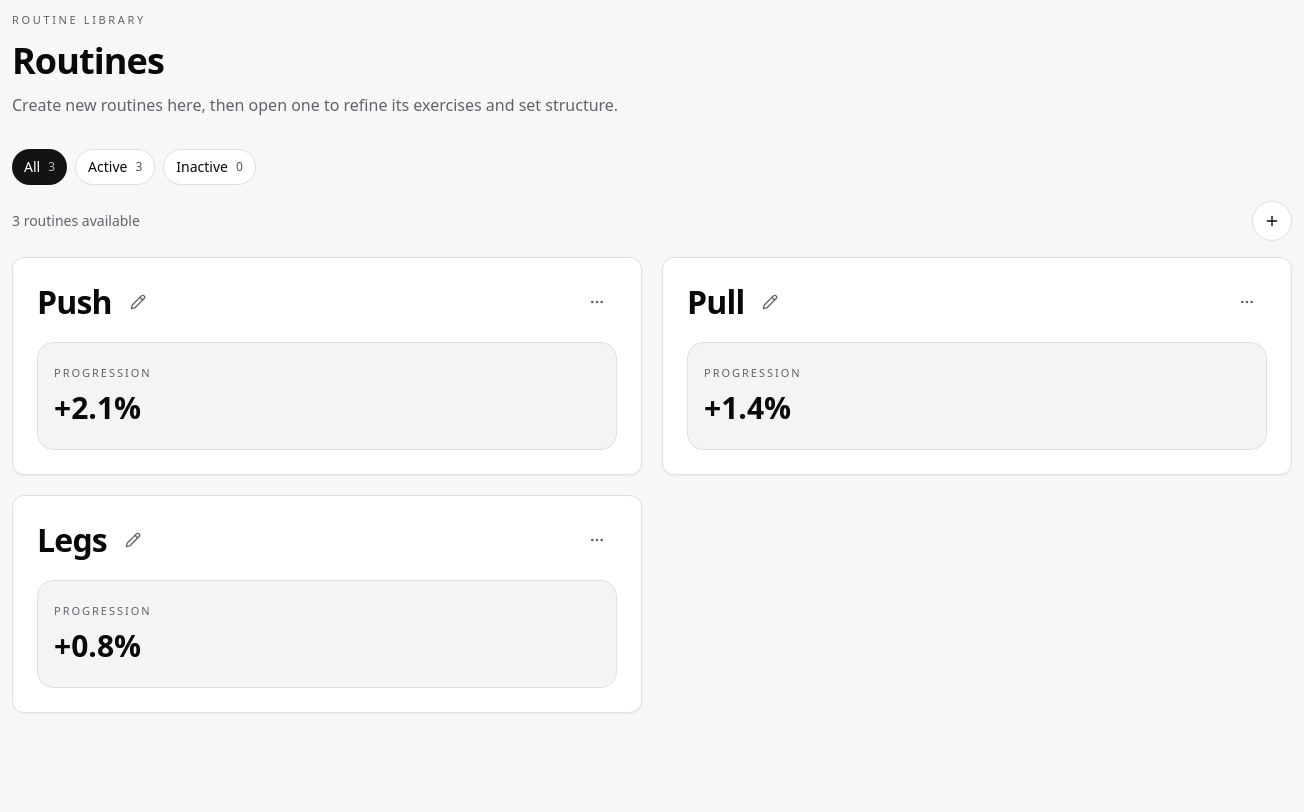
Test: RoutinesPage › duplicates a routine from the index without replacing the original
Click the button named "more actions" in the row of "Push" at (597, 302), box left=577, top=282, right=617, bottom=322
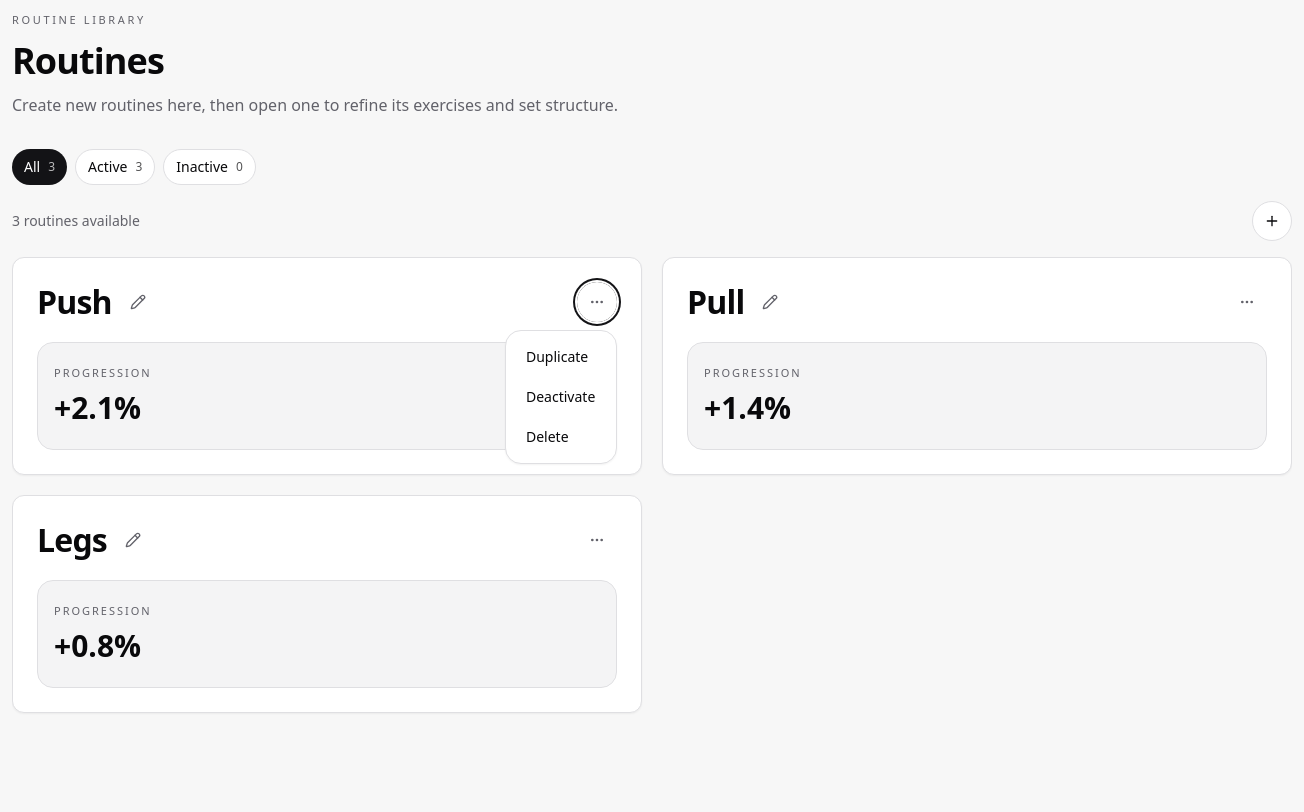
Click the menu item "Duplicate" at (561, 356), box left=514, top=338, right=608, bottom=374
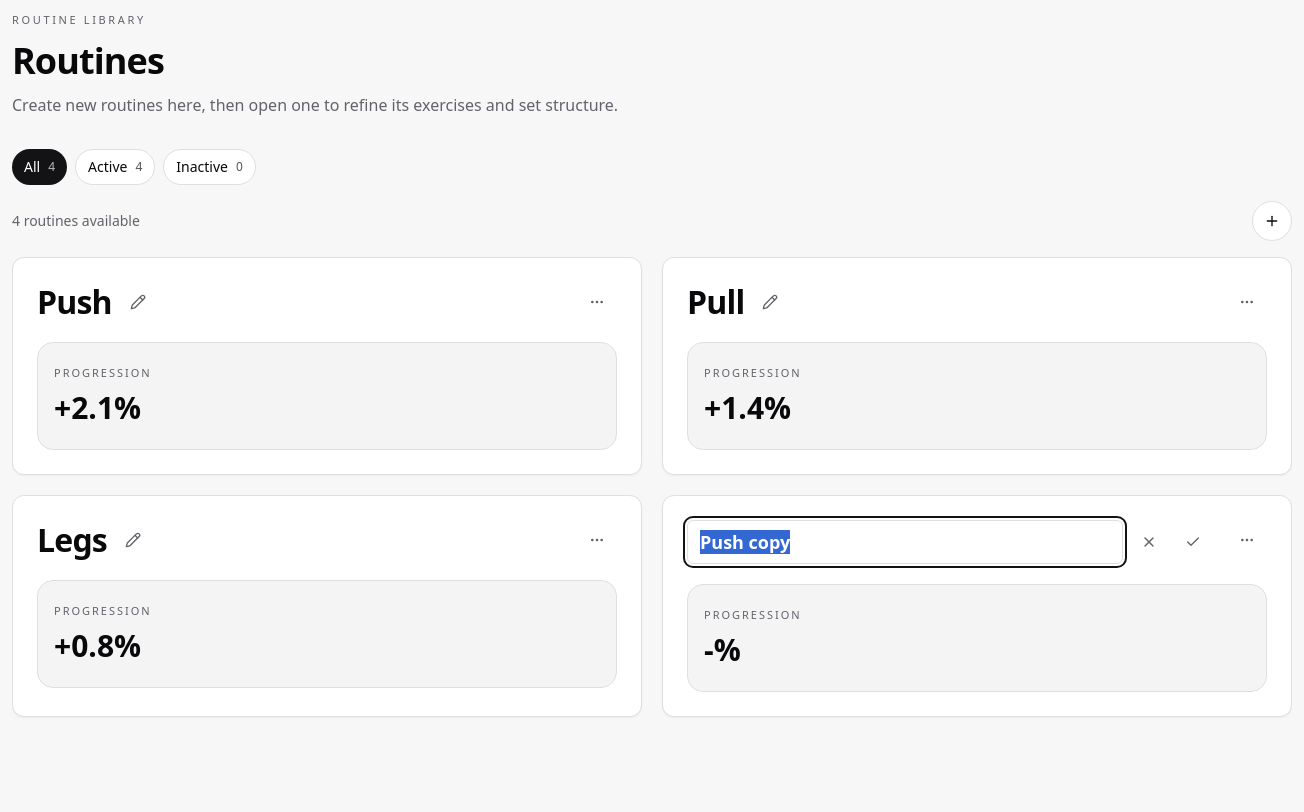
Check: the heading "Push" is shown, box left=37, top=282, right=112, bottom=322
Check: the field named "routine name" holds "Push copy", box left=687, top=520, right=1123, bottom=564
Check: the text "4 routines available" is shown, box left=12, top=210, right=140, bottom=230
